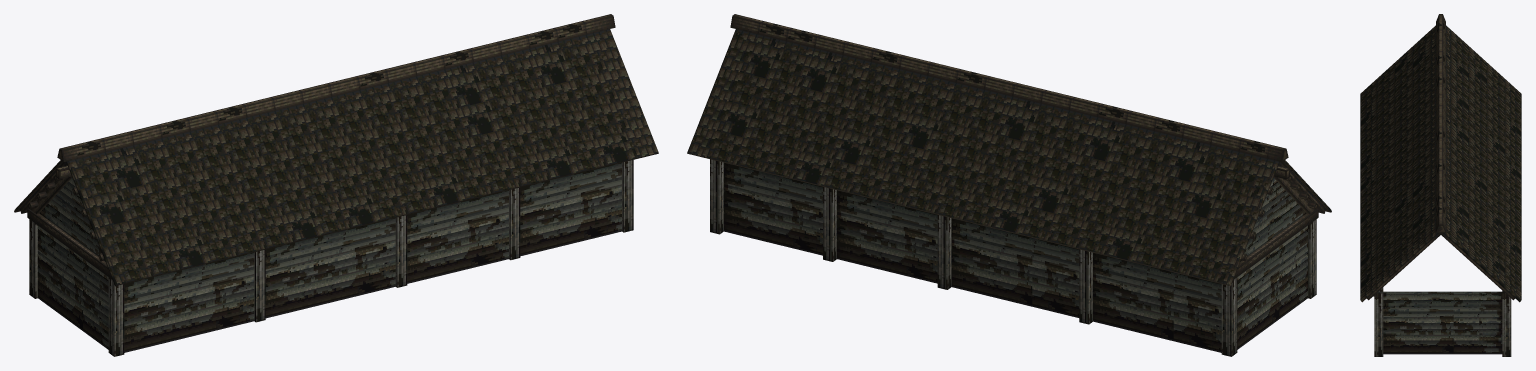
Rendered from EnvBdgMD_WoodHouse_A_Outdoor_House_Ranch_Broken.FBX.
3 renders of one model, left to right at view 1: azimuth 30°, elevation 25°; view 2: azimuth 150°, elevation 25°; view 3: azimuth 270°, elevation 25°, orthographic. The views are drawn at different scales.
Parts seen in each view (by area): view 1: EnvBdgMD_WoodHouse_A_Outdoor_House_Ranch_Broken; view 2: EnvBdgMD_WoodHouse_A_Outdoor_House_Ranch_Broken; view 3: EnvBdgMD_WoodHouse_A_Outdoor_House_Ranch_Broken.
Part boxes in pixels (x1,y1,x2,y2): EnvBdgMD_WoodHouse_A_Outdoor_House_Ranch_Broken: (14,14,658,356); EnvBdgMD_WoodHouse_A_Outdoor_House_Ranch_Broken: (687,14,1331,356); EnvBdgMD_WoodHouse_A_Outdoor_House_Ranch_Broken: (1360,14,1521,356).
Size of the model in its own units: 1960 by 605 by 629.
Materials: 1 (1 with a texture image).
